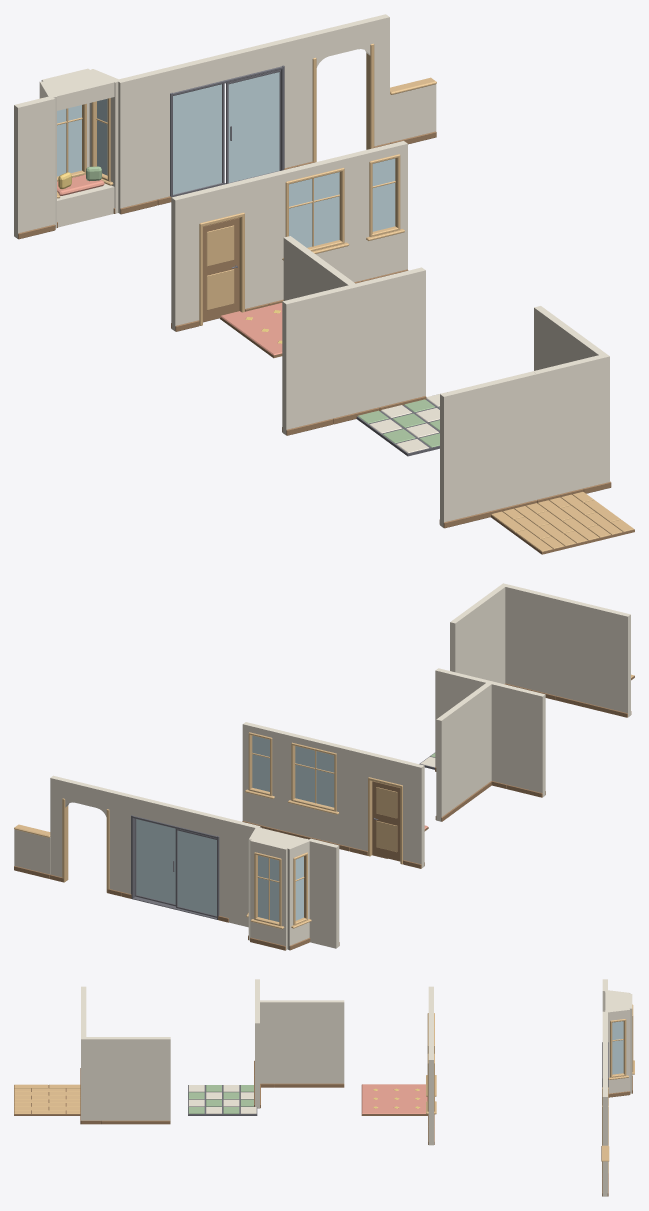
Rendered from starter-scene.glb.
3 renders of one model, top to bottom at view 1: azimuth 30°, elevation 25°; view 2: azimuth 150°, elevation 25°; view 3: azimuth 270°, elevation 25°, orthographic. The views are drawn at different scales.
Parts seen in each view (by area): view 1: 011-wall-bay-window-3m/0, 000-wall-straight-2m/0, 008-wall-door-2m/0, 005-wall-straight-1m/0, 012-wall-patio-slider-3m/0, 004-wall-tee/0, 001-wall-straight-1m/0, 006-wall-straight-1m/0, 013-wall-arch-opening-2m/0, 009-wall-window-2m/0, 012-wall-patio-slider-3m/slider, 012-wall-patio-slider-3m/3 (+22 smaller); view 2: 011-wall-bay-window-3m/0, 000-wall-straight-2m/0, 008-wall-door-2m/0, 007-wall-straight-2m/0, 009-wall-window-2m/0, 005-wall-straight-1m/0, 012-wall-patio-slider-3m/0, 001-wall-straight-1m/0, 013-wall-arch-opening-2m/0, 003-wall-straight-2m/0, 012-wall-patio-slider-3m/3, 012-wall-patio-slider-3m/slider (+16 smaller); view 3: 003-wall-straight-2m/0, 007-wall-straight-2m/0, 015-floor-wood-2m/1, 017-floor-carpet-2m/1, 011-wall-bay-window-3m/0, 002-wall-corner/0, 004-wall-tee/0, 016-floor-tile-2m/2, 016-floor-tile-2m/1, 011-wall-bay-window-3m/2, 011-wall-bay-window-3m/3, 010-wall-window-1m/0 (+5 smaller).
Boxes of the visible parts, x1,y1,x2,y2 form: 011-wall-bay-window-3m/0: (14, 68, 157, 238); 000-wall-straight-2m/0: (440, 371, 536, 527); 008-wall-door-2m/0: (171, 175, 268, 331); 005-wall-straight-1m/0: (282, 290, 332, 435); 012-wall-patio-slider-3m/0: (154, 37, 296, 199); 004-wall-tee/0: (329, 275, 379, 418); 001-wall-straight-1m/0: (533, 360, 583, 499); 006-wall-straight-1m/0: (375, 267, 425, 407); 013-wall-arch-opening-2m/0: (293, 14, 389, 165); 009-wall-window-2m/0: (264, 152, 361, 303); 012-wall-patio-slider-3m/slider: (228, 72, 279, 182); 012-wall-patio-slider-3m/3: (173, 84, 221, 194); 011-wall-bay-window-3m/0: (229, 819, 339, 950); 000-wall-straight-2m/0: (556, 597, 630, 717); 008-wall-door-2m/0: (350, 748, 424, 868); 007-wall-straight-2m/0: (436, 689, 482, 821); 009-wall-window-2m/0: (278, 730, 352, 846); 005-wall-straight-1m/0: (507, 685, 545, 797); 012-wall-patio-slider-3m/0: (121, 793, 231, 917); 001-wall-straight-1m/0: (520, 588, 558, 695); 013-wall-arch-opening-2m/0: (50, 775, 124, 891); 003-wall-straight-2m/0: (450, 592, 496, 682); 012-wall-patio-slider-3m/3: (177, 830, 216, 915); 012-wall-patio-slider-3m/slider: (136, 819, 175, 904); 003-wall-straight-2m/0: (101, 1037, 170, 1123); 007-wall-straight-2m/0: (275, 1000, 344, 1083); 015-floor-wood-2m/1: (14, 1084, 80, 1113); 017-floor-carpet-2m/1: (361, 1084, 427, 1114); 011-wall-bay-window-3m/0: (602, 979, 632, 1093); 002-wall-corner/0: (81, 1030, 100, 1120); 004-wall-tee/0: (255, 994, 274, 1083); 016-floor-tile-2m/2: (188, 1085, 256, 1113); 016-floor-tile-2m/1: (188, 1085, 253, 1113); 011-wall-bay-window-3m/2: (608, 1004, 634, 1079); 011-wall-bay-window-3m/3: (612, 1021, 623, 1074); 010-wall-window-1m/0: (428, 1045, 433, 1145).
Size of the model in its own units: 9 by 2.7 by 17.85.
